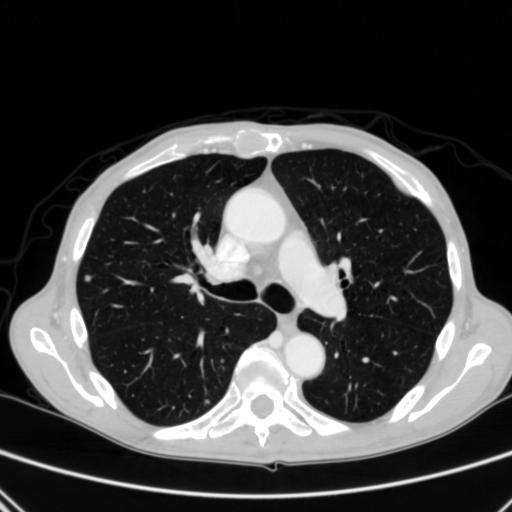nodule: (82, 272, 94, 284)
